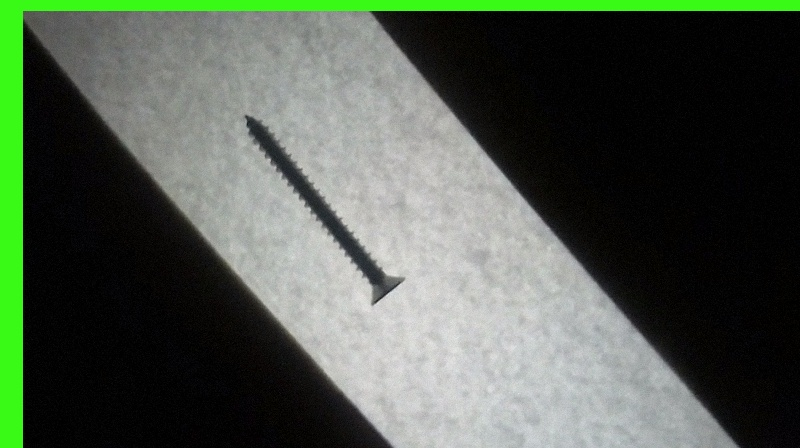S002: (237, 108, 409, 307)
